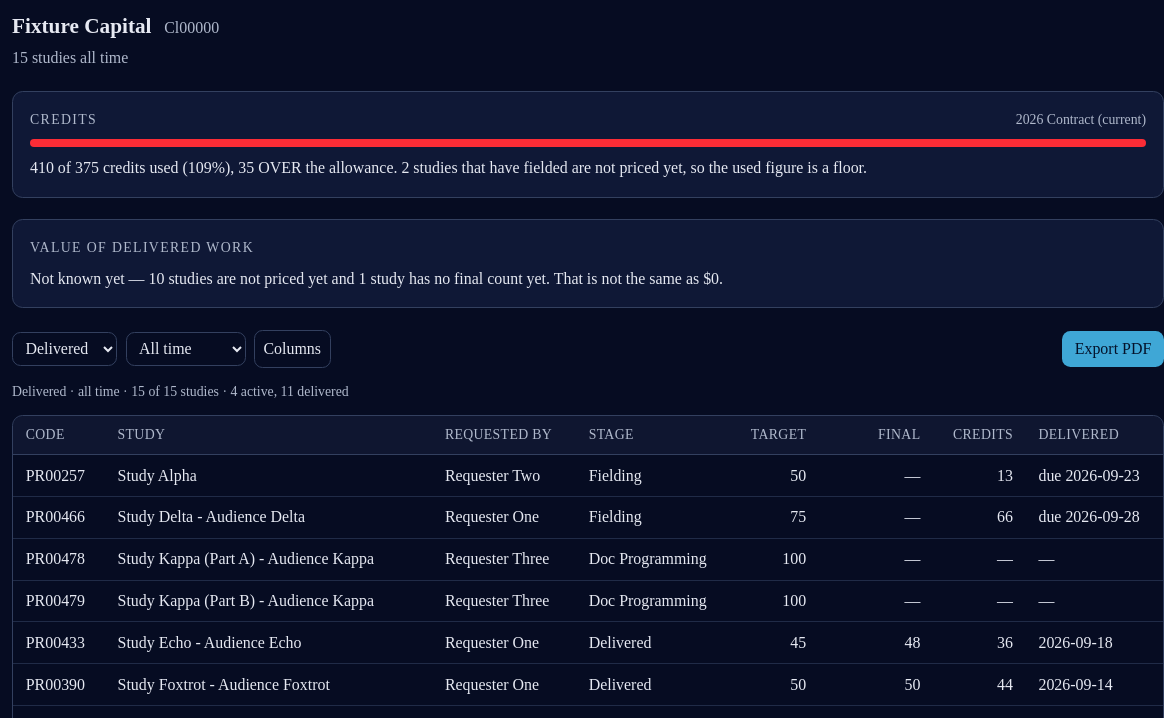
it: AccountDetail columns › does not offer Collected in the picker
Step 1. Click the button "Columns" → click(292, 349), box x1=254 y1=330 x2=330 y2=368
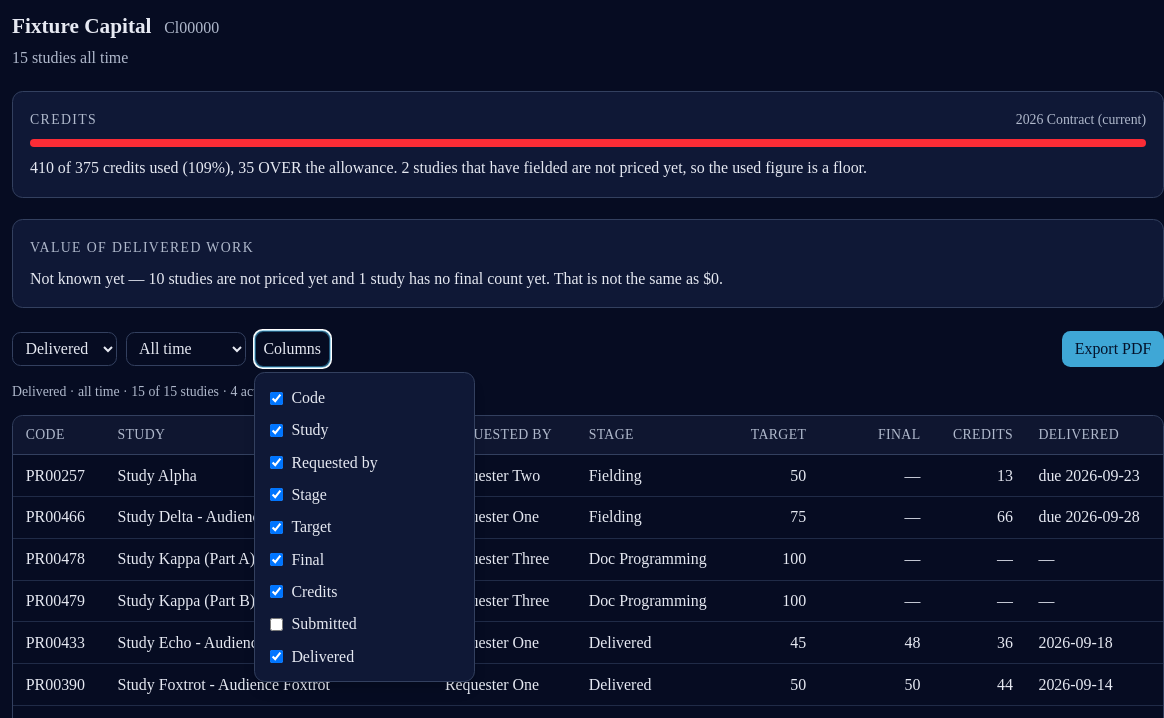
expect the checkbox labelled "Target" is checked: met, box x1=270 y1=521 x2=283 y2=534
expect the checkbox labelled "Final" is checked: met, box x1=270 y1=553 x2=283 y2=566
